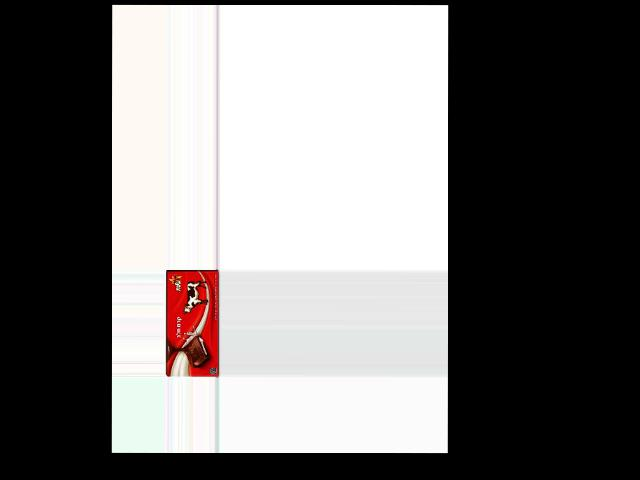chocolate: (166, 268, 219, 376)
